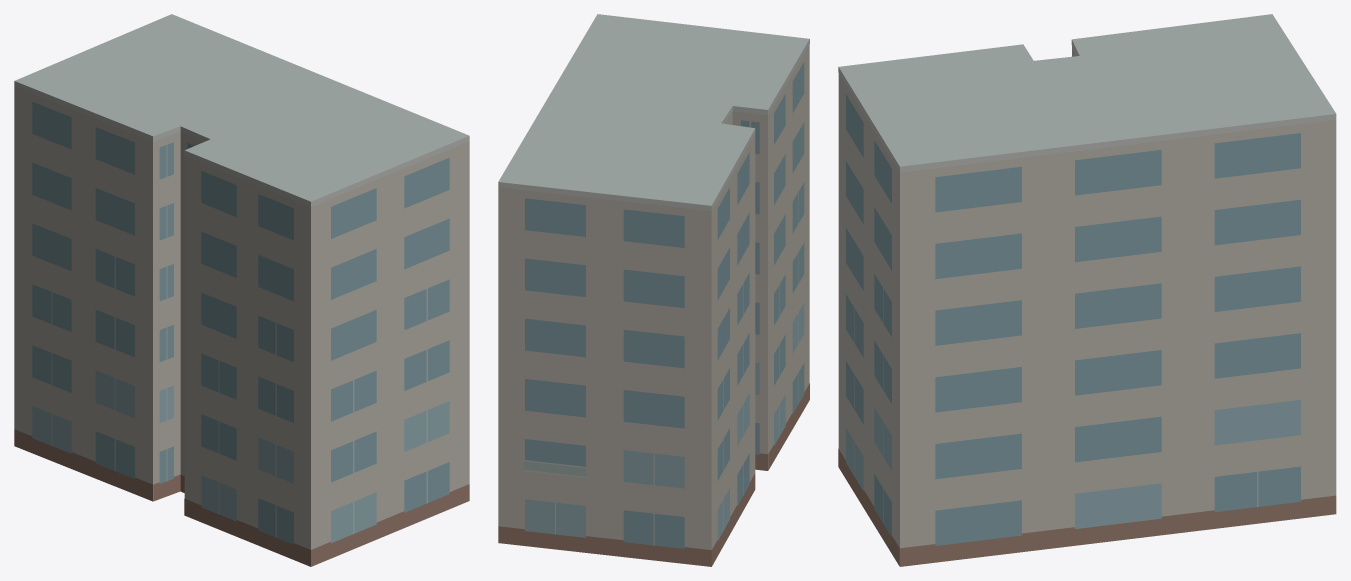
File: survey-upis-32569549.glb
3 views of the same model, side by side, from view 1: azimuth 30°, elevation 25°; view 2: azimuth 150°, elevation 25°; view 3: azimuth 270°, elevation 25° (orthographic). The views are drawn at different scales.
Parts seen in each view (by area): view 1: survey-upis-32569549.tmp; view 2: survey-upis-32569549.tmp; view 3: survey-upis-32569549.tmp.
Part boxes in pixels (left/top/right/bottom): survey-upis-32569549.tmp: left=14, top=14, right=469, bottom=566; survey-upis-32569549.tmp: left=498, top=14, right=809, bottom=566; survey-upis-32569549.tmp: left=838, top=14, right=1336, bottom=566.
Size of the model in its own units: 13.63 by 16.65 by 18.78.
